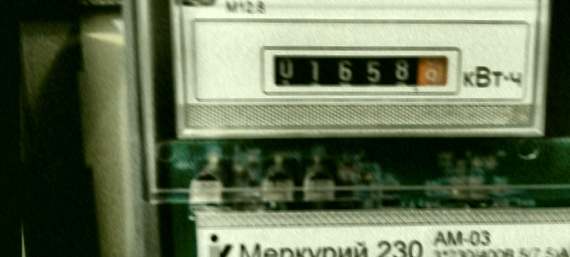0: (277, 56, 294, 78)
1: (307, 57, 321, 81)
5: (365, 58, 381, 82)
6: (336, 58, 354, 82)
8: (393, 58, 410, 80)
9: (422, 65, 438, 87)
screen: (258, 40, 464, 101)
